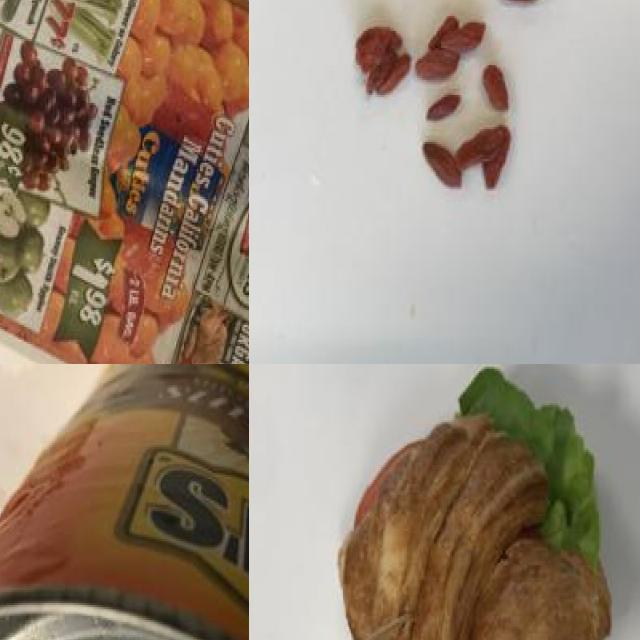compost: (304, 364, 639, 640), (334, 0, 586, 229)
paper: (0, 0, 249, 364)
plastic: (0, 388, 249, 640)
